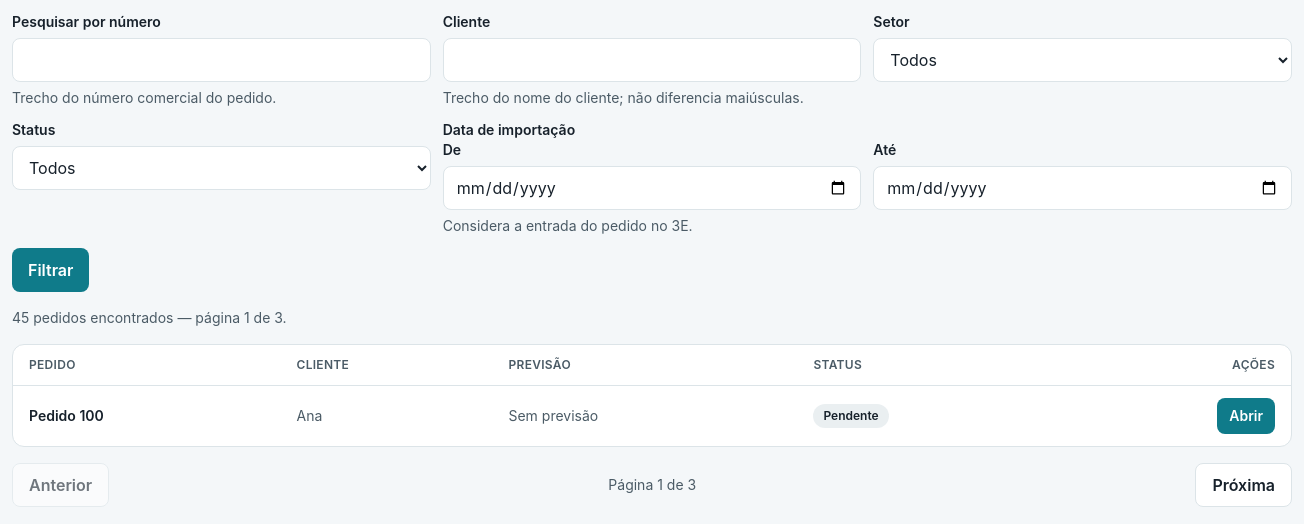
PedidosLista › navega para a próxima página enviando limite e offset (A1)
Expected: the text "Pedido 100" is shown, [13, 386, 280, 446]
Click the button "Próxima". click: (1244, 485)
box: [1195, 463, 1292, 507]
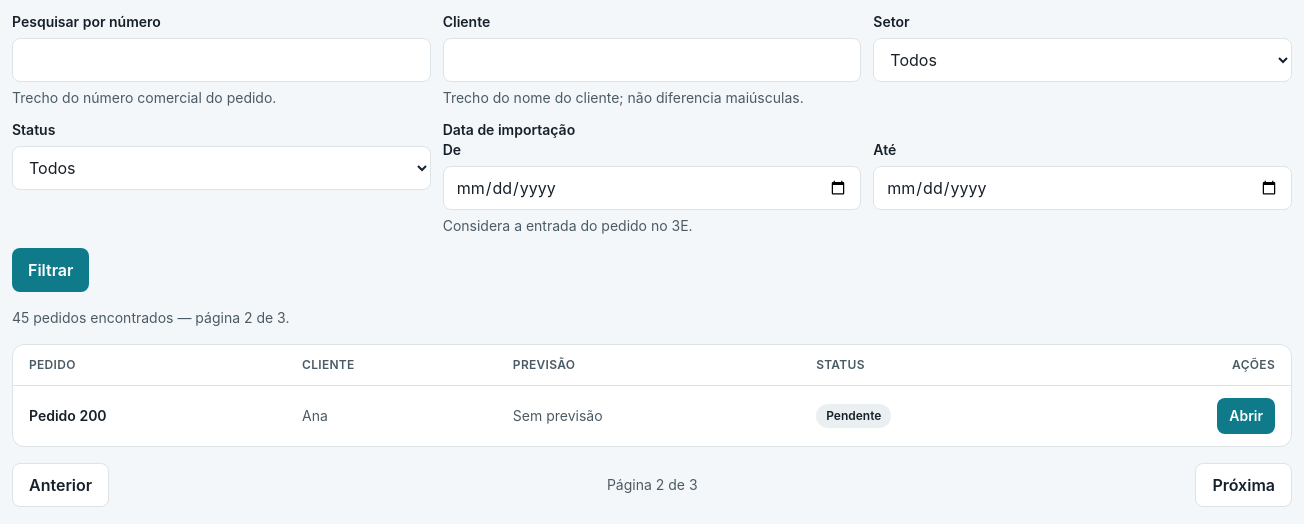
Expected: the text "Pedido 200" is shown, [13, 386, 286, 446]
Expected: the text "Página 2 de 3" is shown, [607, 475, 698, 495]
